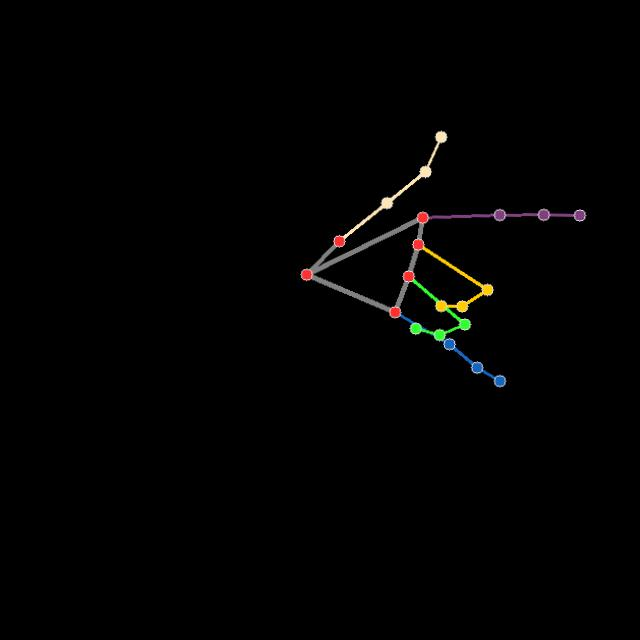spiderman: (299, 129, 587, 390)
